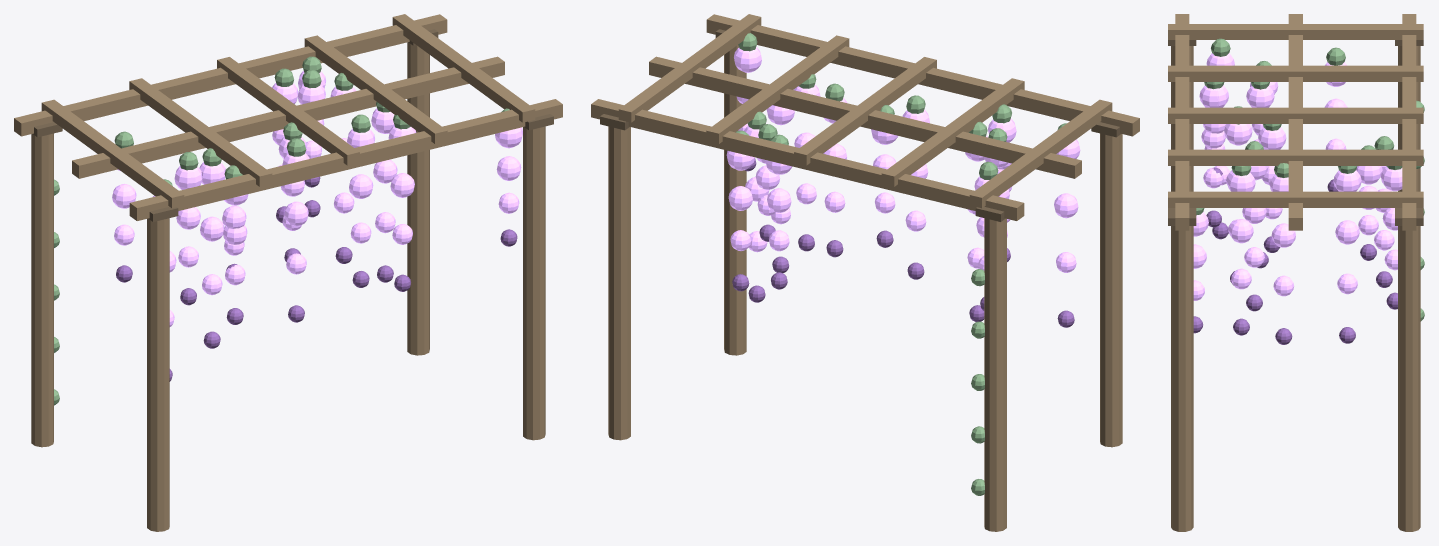
File: wisteria_arbor.glb
3 renders of one model, left to right at view 1: azimuth 30°, elevation 25°; view 2: azimuth 150°, elevation 25°; view 3: azimuth 270°, elevation 25°, orthographic.
Visible parts, largest first — view 1: wisteria_arbor; view 2: wisteria_arbor; view 3: wisteria_arbor.
Boxes of the visible parts, left/top/right/bottom form: wisteria_arbor: left=14, top=14, right=562, bottom=531; wisteria_arbor: left=591, top=14, right=1139, bottom=531; wisteria_arbor: left=1168, top=14, right=1424, bottom=531.
Size of the model in its own units: 3.4 by 2.54 by 1.81.
